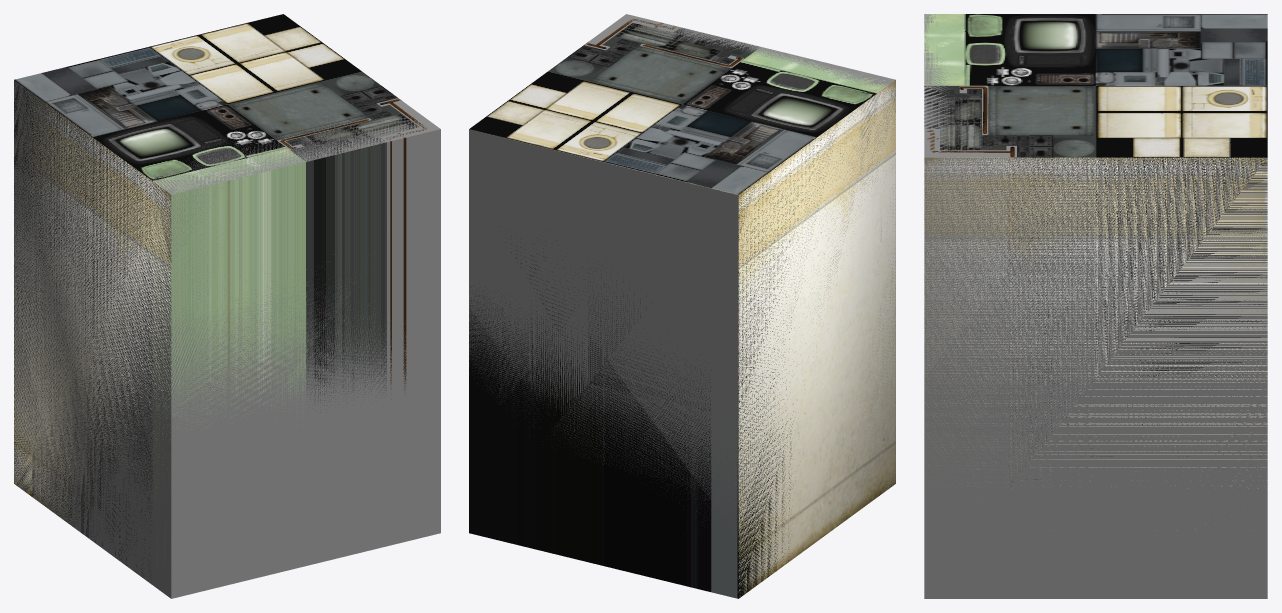
Rendered from washing_machine.FBX.
3 renders of one model, left to right at view 1: azimuth 30°, elevation 25°; view 2: azimuth 150°, elevation 25°; view 3: azimuth 270°, elevation 25°, orthographic. The views are drawn at different scales.
Parts seen in each view (by area): view 1: bounds, colbox-1, wash_machine100; view 2: colbox-1, bounds, wash_machine100; view 3: bounds, colbox-1, wash_machine100.
Part boxes in pixels (x1,y1,x2,y2): bounds: (14,80,440,598); colbox-1: (14,14,426,575); wash_machine100: (14,83,171,526); colbox-1: (469,19,888,598); bounds: (469,14,895,538); wash_machine100: (470,80,895,598); bounds: (924,14,1267,598); colbox-1: (924,14,1267,479); wash_machine100: (924,157,1267,530).
Size of the model in its own units: 80.4 by 115 by 81.28.
